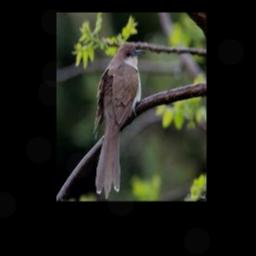Cuckoo: (93, 41, 145, 198)
